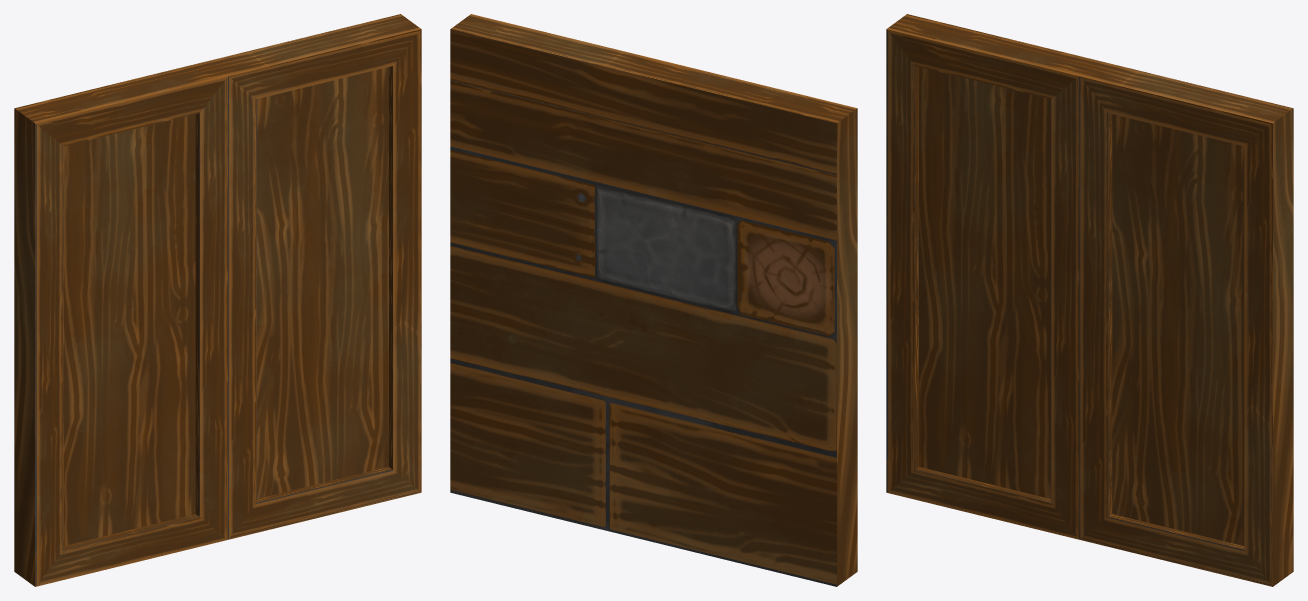
The model's file is door_1.fbx.
The picture shows the model from 3 angles, left to right: view 1: azimuth 30°, elevation 25°; view 2: azimuth 150°, elevation 25°; view 3: azimuth 330°, elevation 25°; orthographic projection.
Visible parts, largest first — view 1: Cube.2035; view 2: Cube.2035; view 3: Cube.2035.
Boxes of the visible parts, x1,y1,x2,y2 form: Cube.2035: [14, 14, 421, 586]; Cube.2035: [450, 14, 857, 586]; Cube.2035: [886, 14, 1293, 586].
Size of the model in its own units: 2.39 by 2.73 by 0.221.
